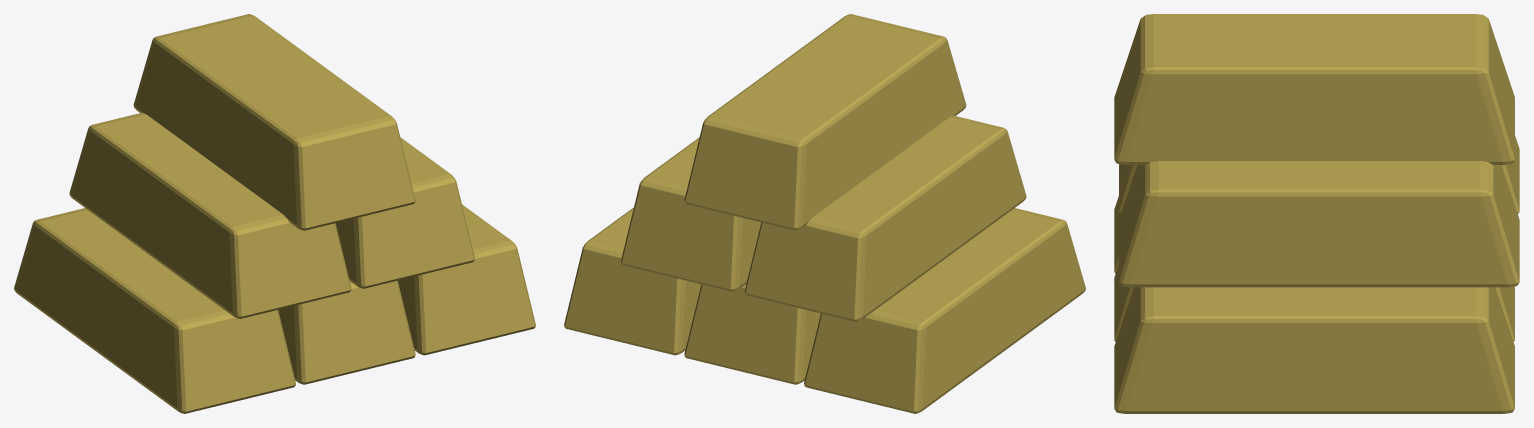
Rendered from moneda1.glb.
3 views of the same model, side by side, from view 1: azimuth 30°, elevation 25°; view 2: azimuth 150°, elevation 25°; view 3: azimuth 270°, elevation 25° (orthographic). The views are drawn at different scales.
Visible parts, largest first — view 1: Gold_Ingots_Cube.045; view 2: Gold_Ingots_Cube.045; view 3: Gold_Ingots_Cube.045.
Part boxes in pixels (x1,y1,x2,y2): Gold_Ingots_Cube.045: (14,14,535,413); Gold_Ingots_Cube.045: (564,14,1085,413); Gold_Ingots_Cube.045: (1114,14,1519,413).
Size of the model in its own units: 0.72 by 0.4517 by 0.6072.
